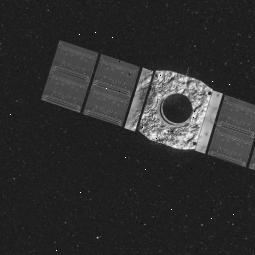soho: (60, 41, 254, 154)
